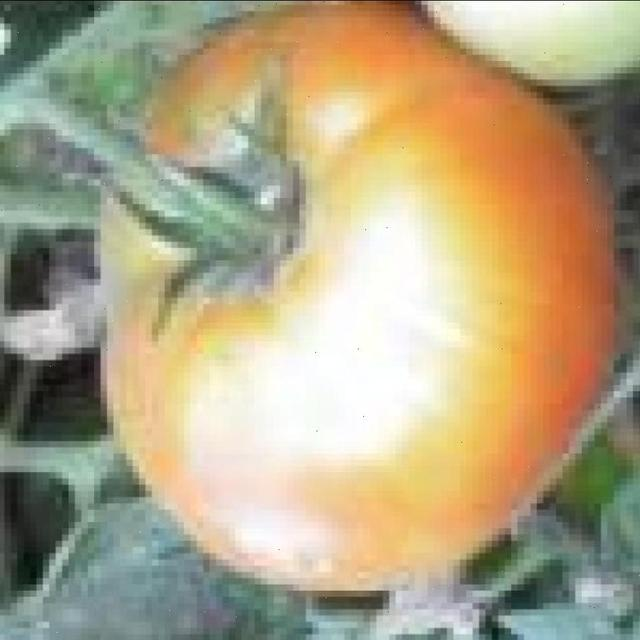Sunscald Fruit: (106, 136, 324, 314)
